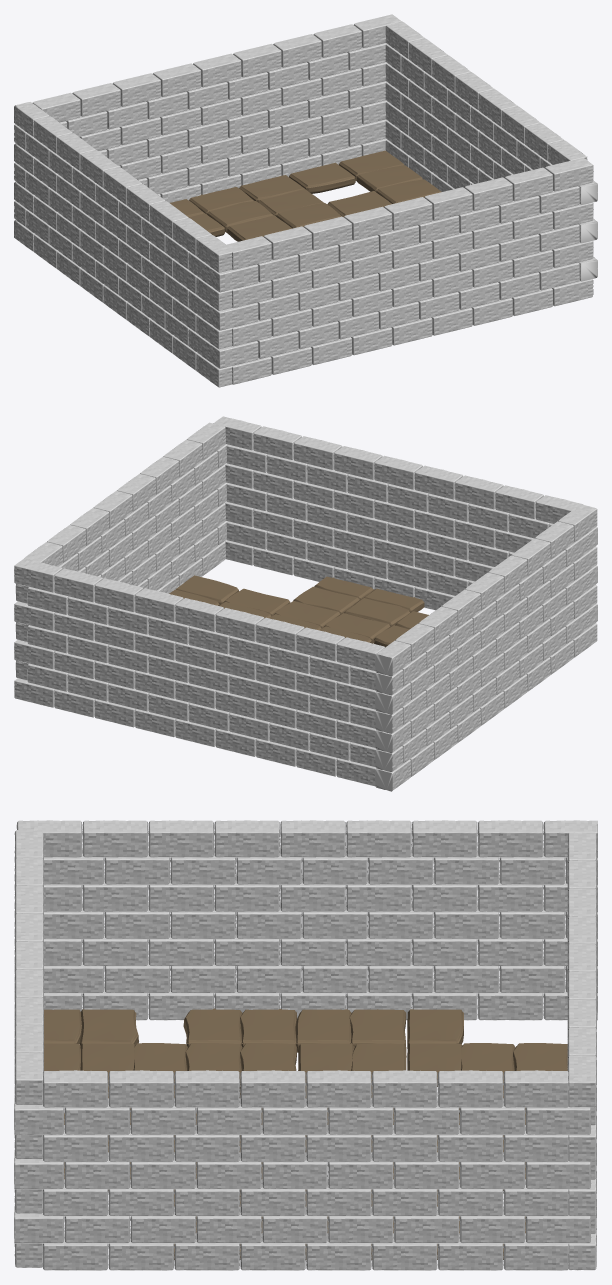
The model's file is RoomWithHoles.fbx.
3 renders of one model, top to bottom at view 1: azimuth 30°, elevation 25°; view 2: azimuth 150°, elevation 25°; view 3: azimuth 270°, elevation 25°, orthographic. The views are drawn at different scales.
Parts seen in each view (by area): view 1: Walls, Floor; view 2: Walls, Floor; view 3: Walls, Floor.
Boxes of the visible parts, box(x1,y1,x2,y2) form: Walls: box(14, 14, 597, 387); Floor: box(170, 150, 441, 241); Walls: box(14, 416, 597, 791); Floor: box(169, 575, 428, 647); Walls: box(14, 820, 597, 1270); Floor: box(44, 1008, 567, 1260).
Size of the model in its own units: 19.17 by 6.51 by 18.02.
